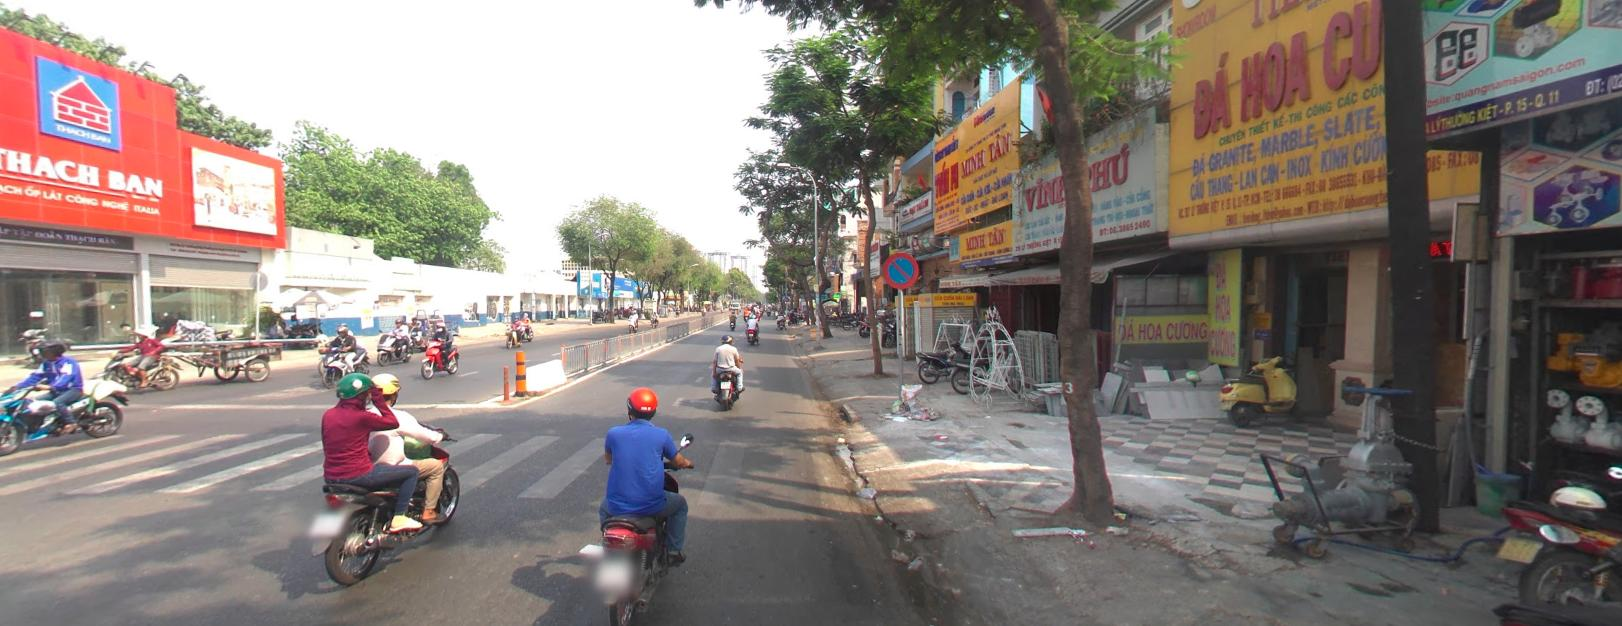Cam dung va do: (882, 250, 917, 286)
